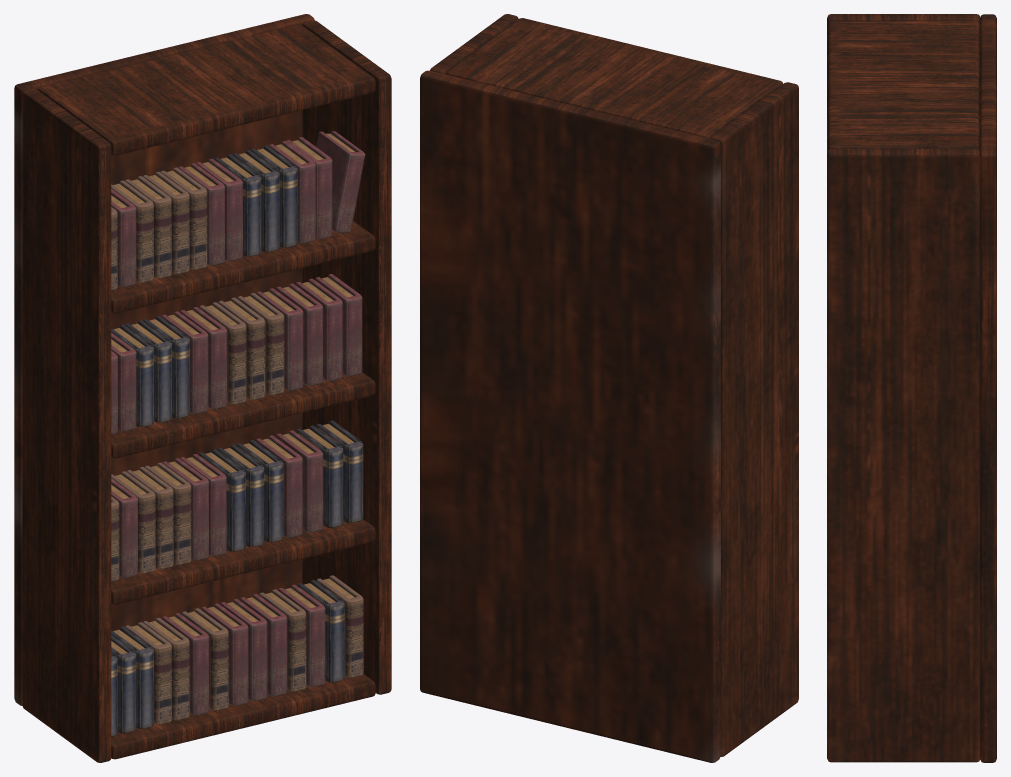
The model's file is Furniture_Book rack.fbx.
3 renders of one model, left to right at view 1: azimuth 30°, elevation 25°; view 2: azimuth 150°, elevation 25°; view 3: azimuth 270°, elevation 25°, orthographic.
Parts seen in each view (by area): view 1: Books1; view 2: Books1; view 3: Books1.
Part boxes in pixels (box(x1,y1,x2,y2)): Books1: box(14, 14, 391, 762); Books1: box(420, 14, 798, 762); Books1: box(827, 14, 996, 762).
Bounding box in the file's own units: 1 × 2 × 0.5046.
Materials: 1 (1 with a texture image).
